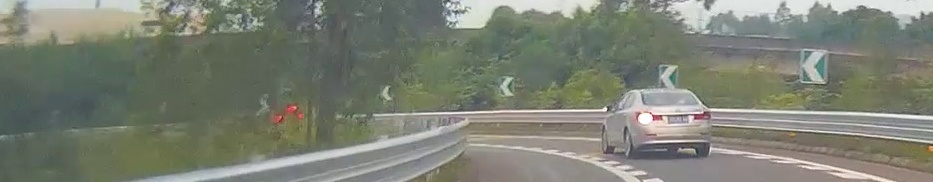L_light: (636, 111, 663, 123)
R_light: (694, 111, 711, 119)
T_light: (664, 93, 675, 95)
day-left: (633, 89, 712, 157)
